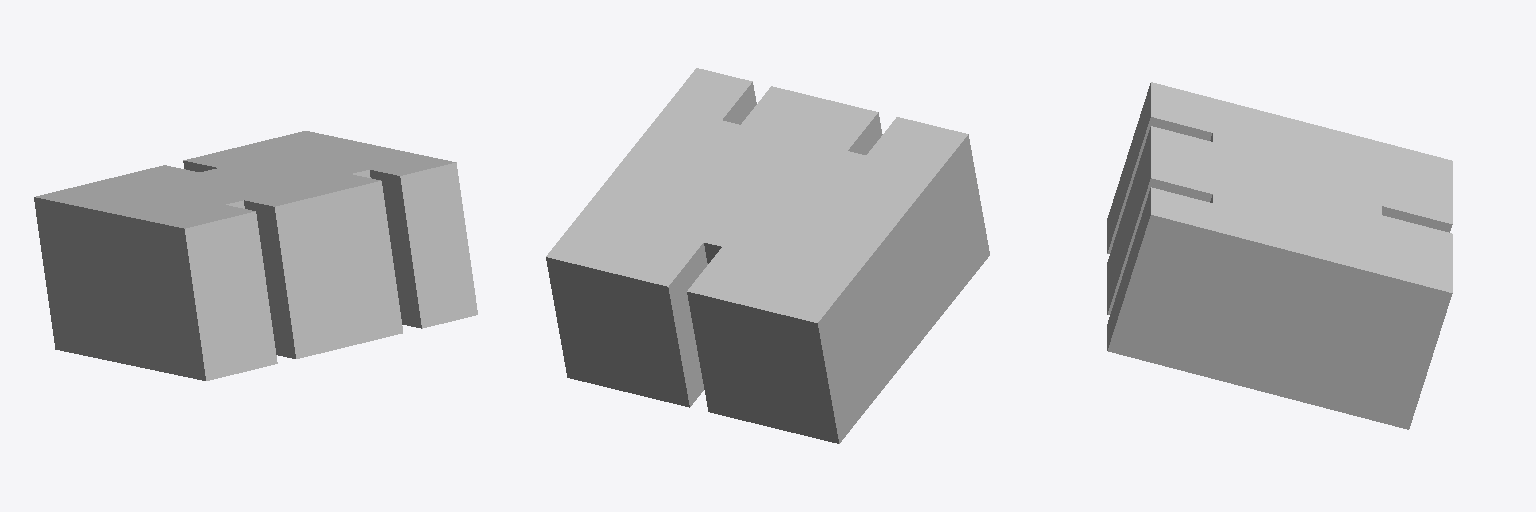
The model's file is dma.obj.
3 views of the same model, side by side, from view 1: azimuth 30°, elevation 25°; view 2: azimuth 150°, elevation 25°; view 3: azimuth 270°, elevation 25° (orthographic).
Parts seen in each view (by area): view 1: polySurface3_group1; view 2: polySurface3_group1; view 3: polySurface3_group1.
Boxes of the visible parts, box(x1,y1,x2,y2) form: polySurface3_group1: box(34, 131, 477, 380); polySurface3_group1: box(546, 68, 989, 443); polySurface3_group1: box(1107, 82, 1452, 429).
Size of the model in its own units: 5.87 by 4.44 by 6.45.